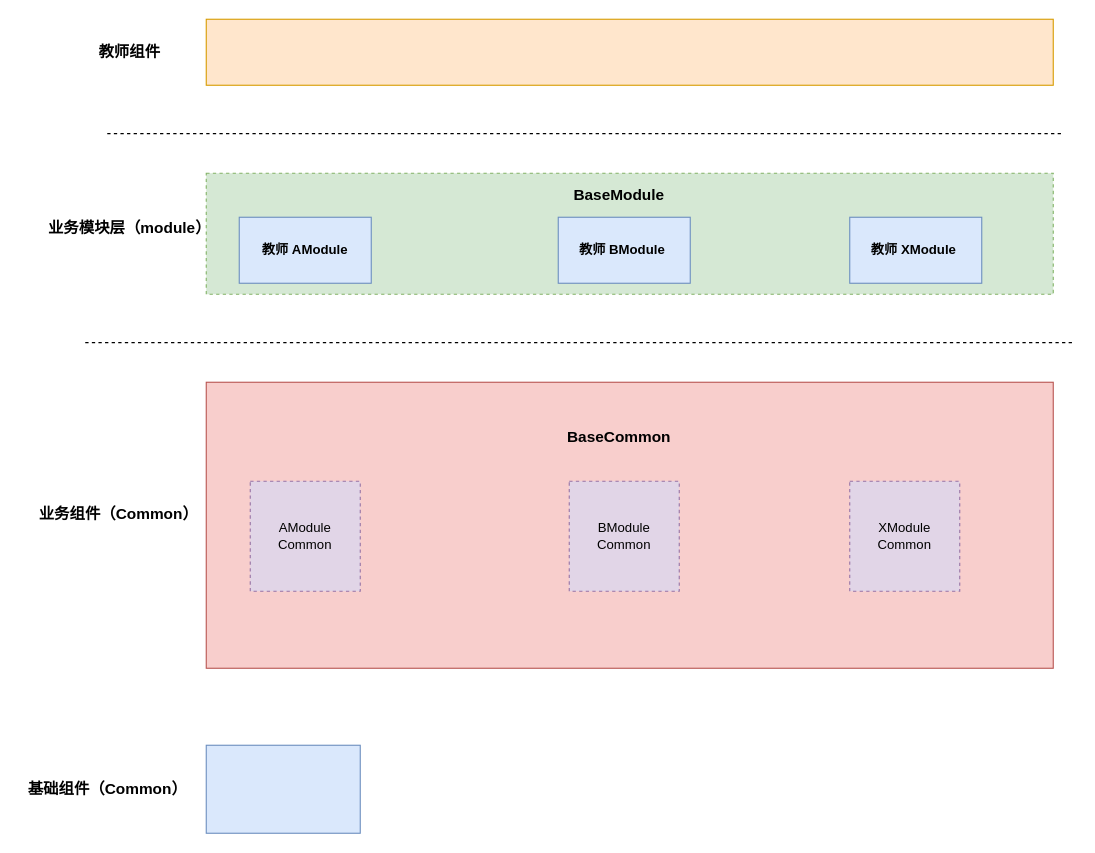
Image size: 1095x853. Some labels were removed from this diagram. The shapes that lost their labels are listed below. From the top down, each one's box as (x1, y1, x2, y2) in pixels, then its label:
(205, 18, 1053, 85): 教师系统
(205, 744, 360, 833): AppServiceCommon
